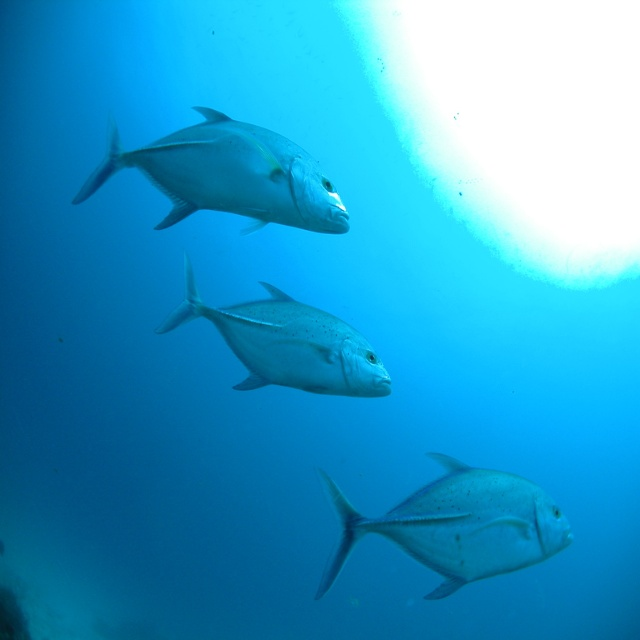Fish: (314, 451, 575, 603), (71, 106, 350, 237), (154, 247, 393, 397)
